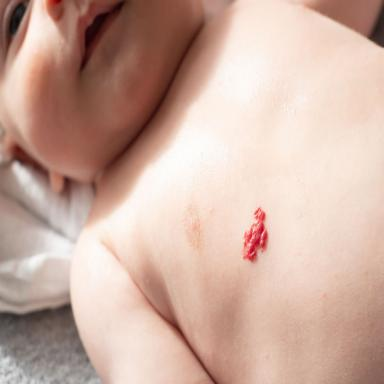Hemangiome: (243, 207, 268, 260)
